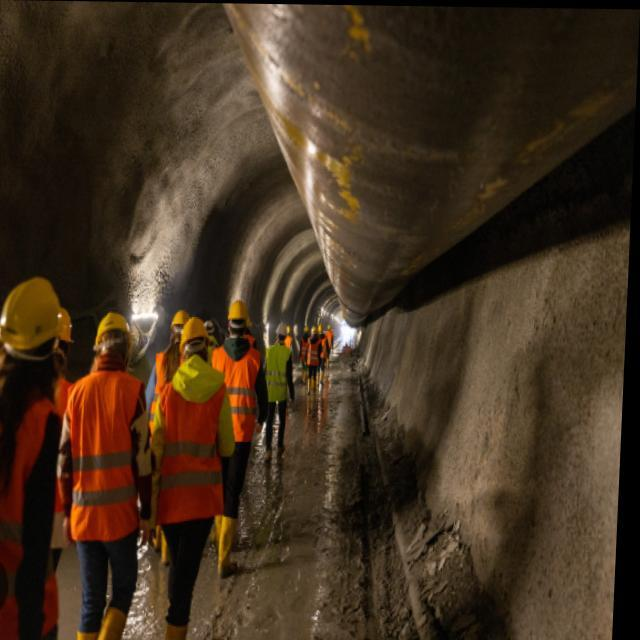hard_hat: (0, 275, 70, 396), (91, 312, 135, 373), (44, 305, 77, 365), (178, 316, 211, 359), (227, 298, 250, 336), (169, 308, 192, 341), (202, 318, 215, 340), (275, 322, 288, 344), (242, 316, 253, 329), (285, 326, 292, 337), (311, 326, 318, 337), (317, 323, 324, 333), (303, 325, 309, 335), (327, 323, 333, 332)
vest: (0, 386, 72, 640), (60, 368, 149, 546), (152, 375, 230, 528), (15, 374, 74, 517), (208, 345, 261, 444), (148, 349, 193, 444), (264, 344, 291, 403), (236, 333, 256, 368), (202, 335, 219, 372), (307, 339, 322, 368), (300, 337, 312, 360), (317, 336, 329, 359), (283, 335, 293, 354), (325, 331, 334, 348)
